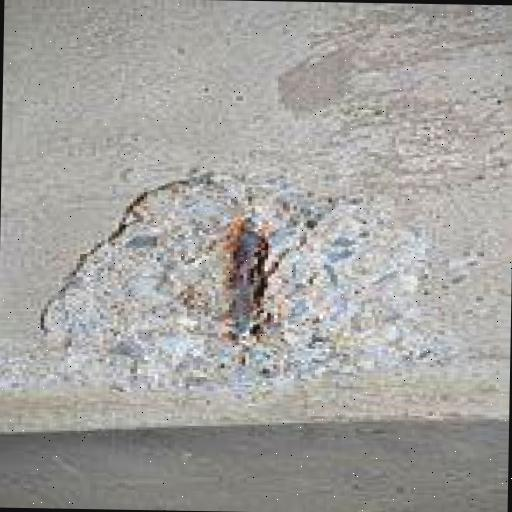spalling: (46, 176, 431, 388)
